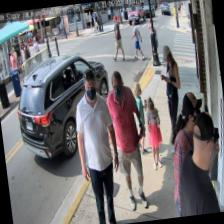person: (68, 65, 125, 224), (102, 68, 152, 212), (160, 90, 216, 216), (167, 109, 224, 216), (156, 44, 189, 164), (127, 80, 152, 153), (142, 94, 164, 168)
